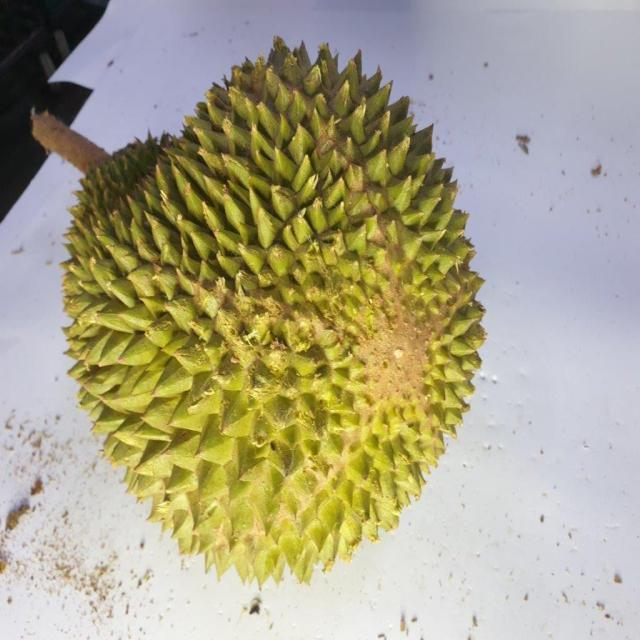immature: (63, 36, 490, 592)
